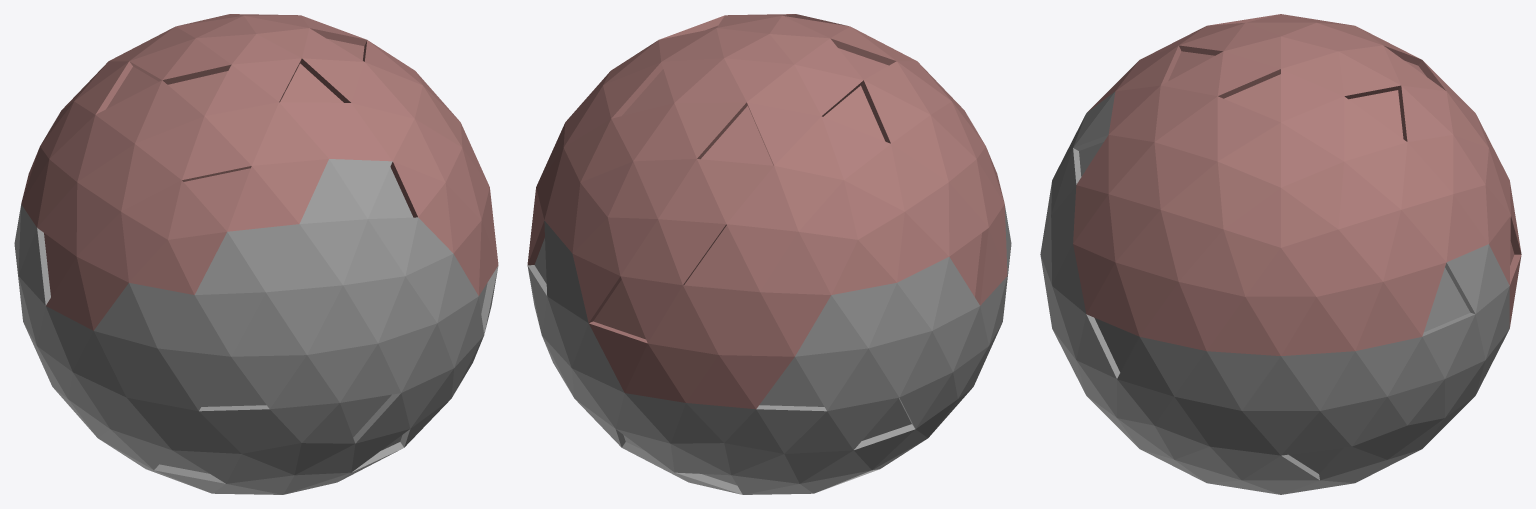
File: triton.glb
3 views of the same model, side by side, from view 1: azimuth 30°, elevation 25°; view 2: azimuth 150°, elevation 25°; view 3: azimuth 270°, elevation 25° (orthographic).
Parts seen in each view (by area): view 1: Icosphere; view 2: Icosphere; view 3: Icosphere.
Boxes of the visible parts, x1,y1,x2,y2 form: Icosphere: (14, 14, 498, 494); Icosphere: (527, 14, 1011, 494); Icosphere: (1040, 14, 1521, 494).
Size of the model in its own units: 0.2707 by 0.2707 by 0.2707.
